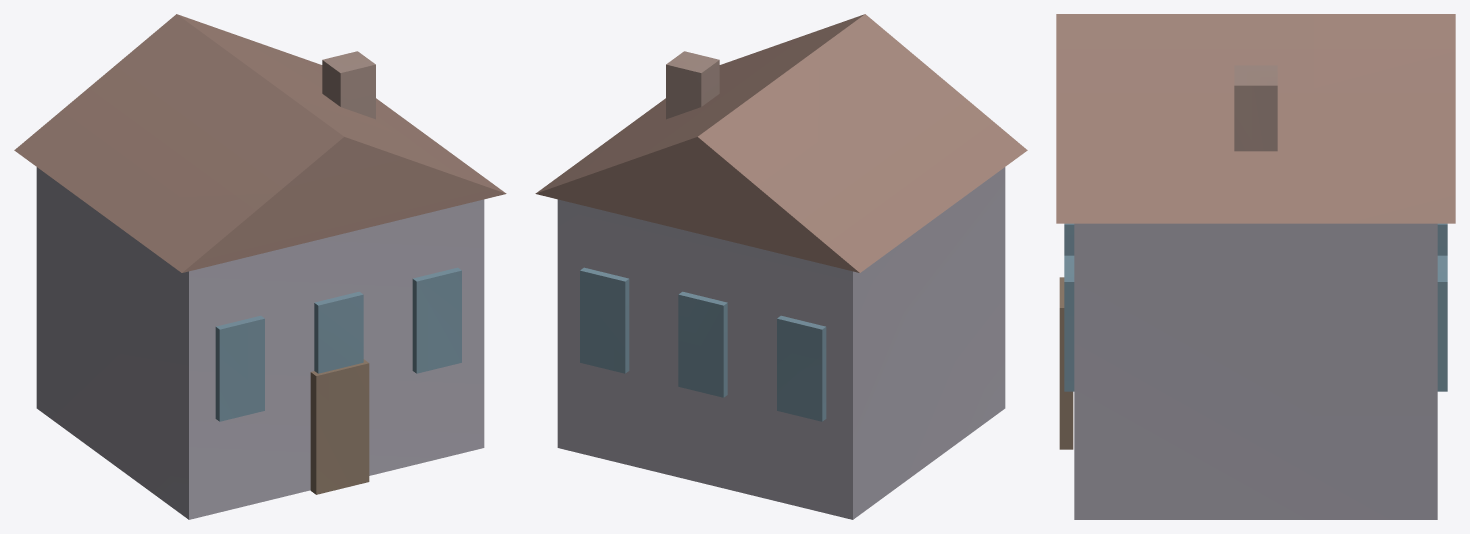
The model's file is cottage-00.glb.
The picture shows the model from 3 angles, left to right: view 1: azimuth 30°, elevation 25°; view 2: azimuth 150°, elevation 25°; view 3: azimuth 270°, elevation 25°; orthographic projection. The views are drawn at different scales.
Visible parts, largest first — view 1: world; view 2: world; view 3: world.
Part boxes in pixels (x1,y1,x2,y2): world: [14, 14, 506, 519]; world: [535, 14, 1027, 519]; world: [1056, 14, 1455, 519].
Bounding box in the file's own units: 1.15 × 1.19 × 1.02.
